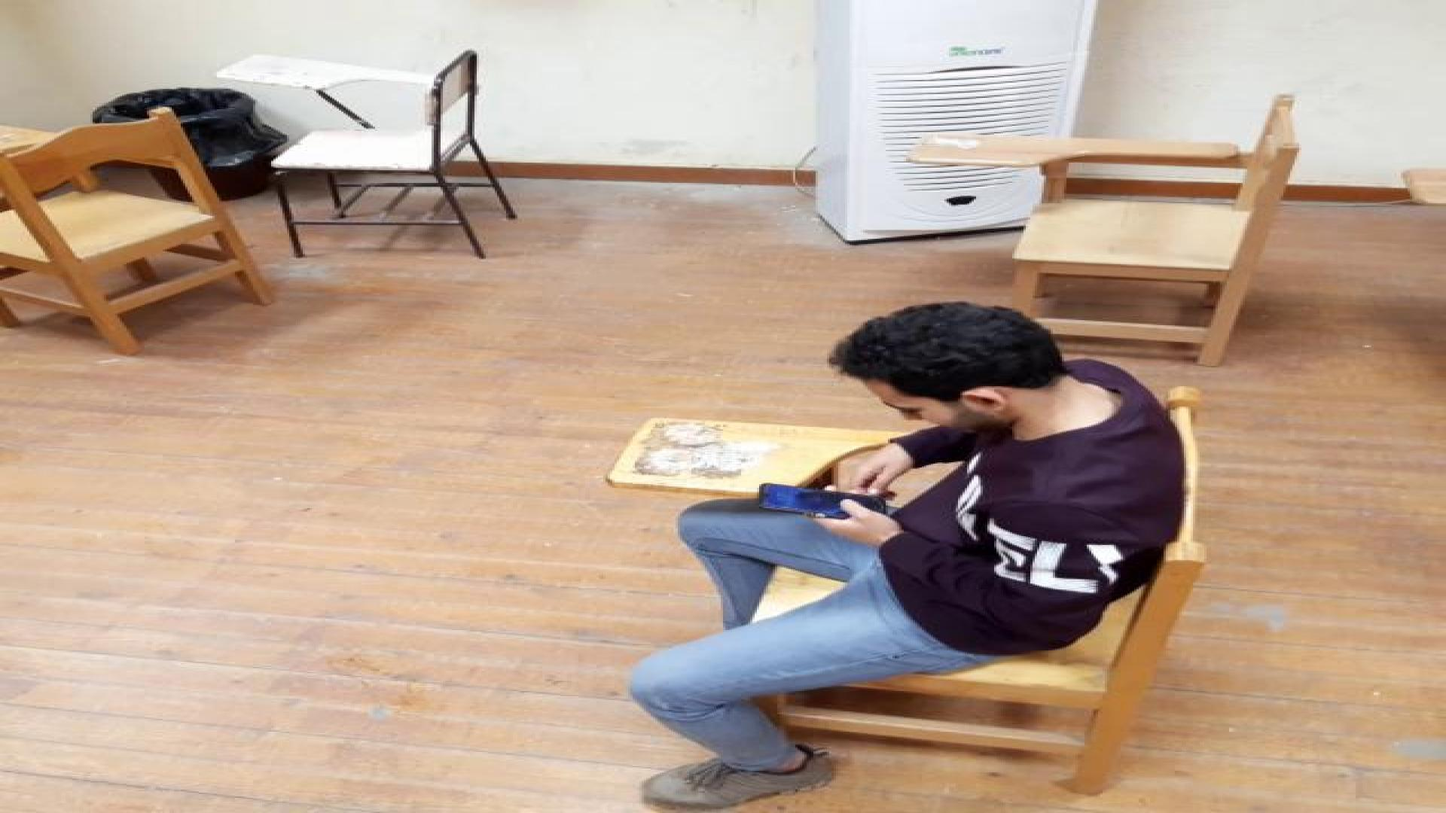phone: (758, 483, 894, 516)
